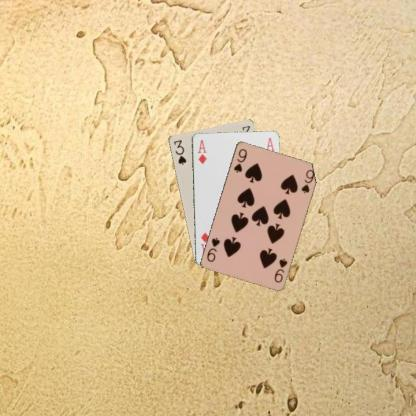3s: (171, 137, 187, 166)
9s: (231, 146, 248, 174), (272, 255, 288, 284)
Ad: (195, 137, 208, 165)
